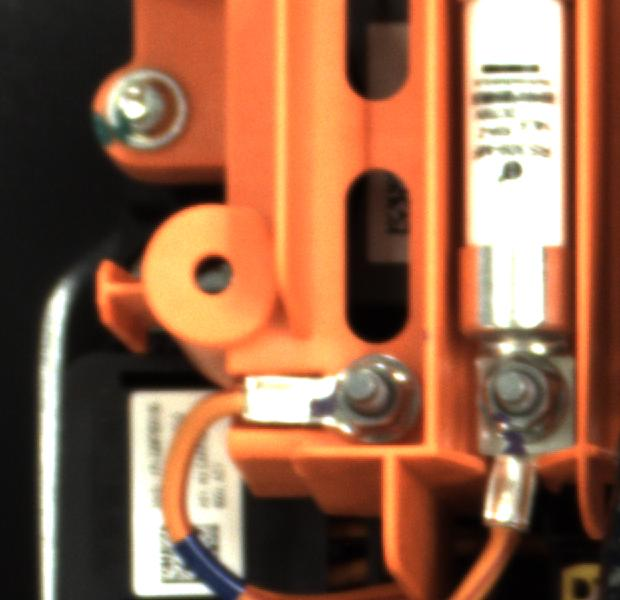screw_m: (103, 71, 199, 153)
screw_s: (459, 347, 587, 443), (316, 345, 435, 442)
